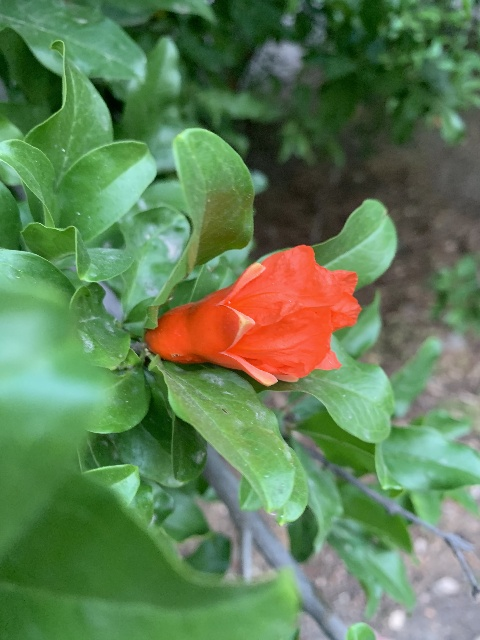flower: (148, 245, 363, 385)
